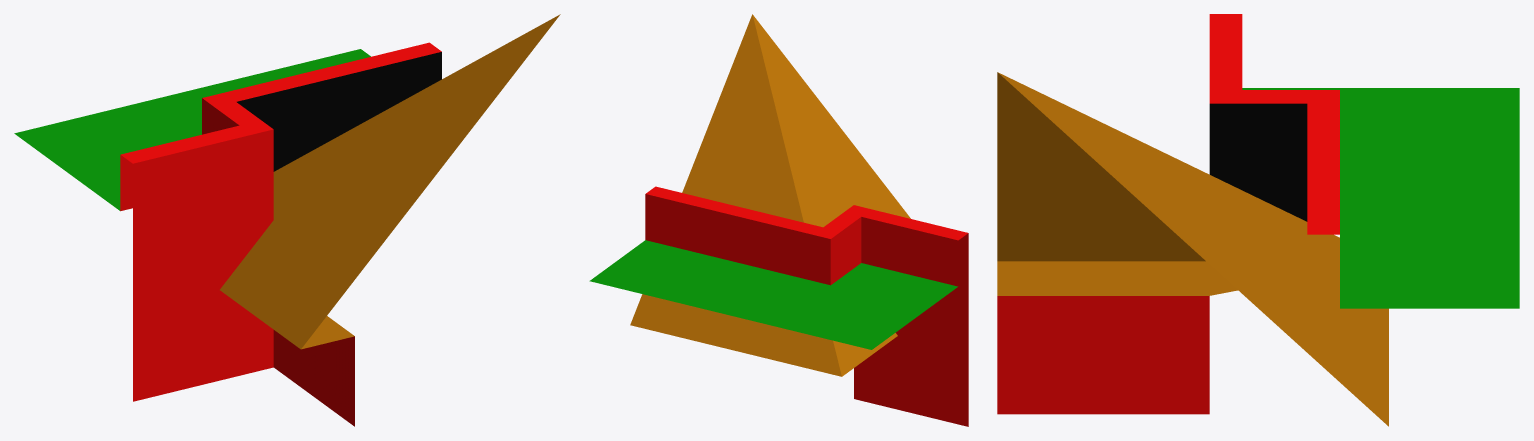
3 views of the same model, side by side, from view 1: azimuth 30°, elevation 25°; view 2: azimuth 150°, elevation 25°; view 3: azimuth 270°, elevation 25° (orthographic). The views are drawn at different scales.
Visible parts, largest first — view 1: None_W_S_E_E_W_E_E_E_None; view 2: None_W_S_E_E_W_E_E_E_None; view 3: None_W_S_E_E_W_E_E_E_None.
Part boxes in pixels (x1=…): None_W_S_E_E_W_E_E_E_None: x1=14, y1=14, x2=560, y2=426; None_W_S_E_E_W_E_E_E_None: x1=589, y1=14, x2=968, y2=426; None_W_S_E_E_W_E_E_E_None: x1=997, y1=14, x2=1519, y2=426.
Bounding box in the file's own units: 100 × 100 × 100.
